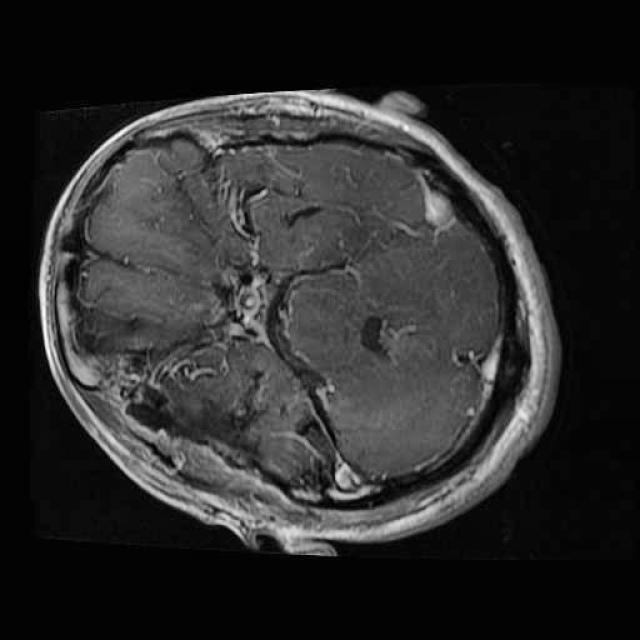Non-Tumor: (128, 318, 359, 512)
